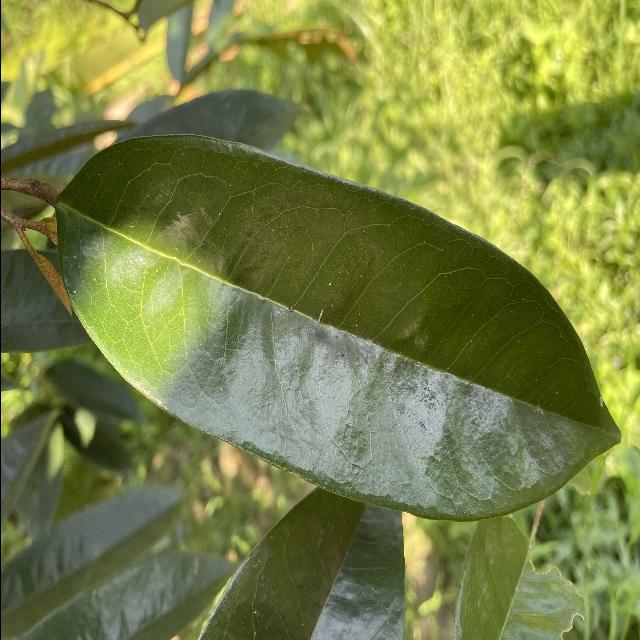No Disease: (41, 121, 632, 529)
